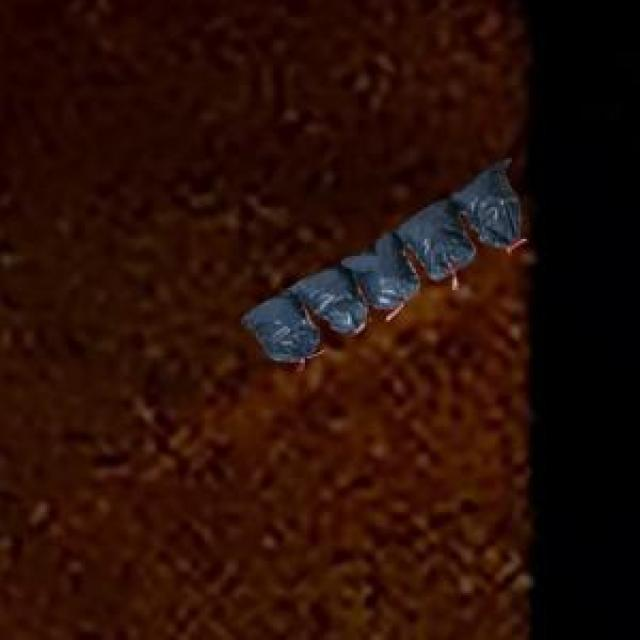Vinyl: (242, 161, 522, 362)
